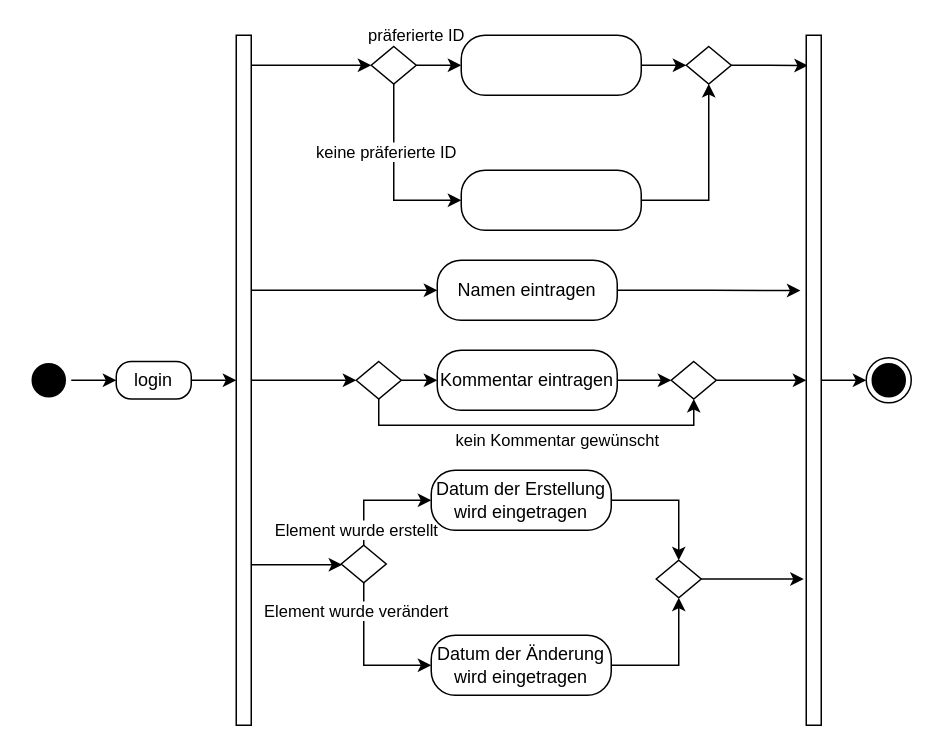
Image size: 938x752. Some labels were removed from this diagram. Here are the shapes that lost their labels. From the top down, the box of each, then its label:
(460, 34, 641, 95): eigene ID eintragen
(460, 169, 641, 230): ID wird automatisch erzeugt
